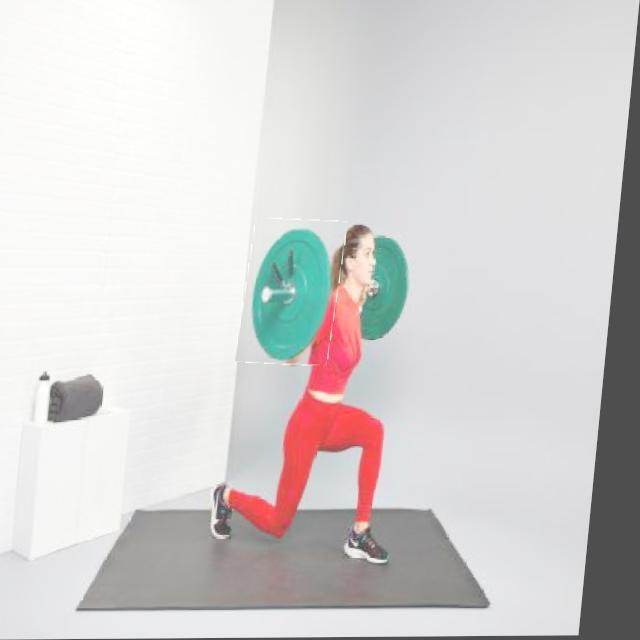barbell: (245, 220, 352, 366)
